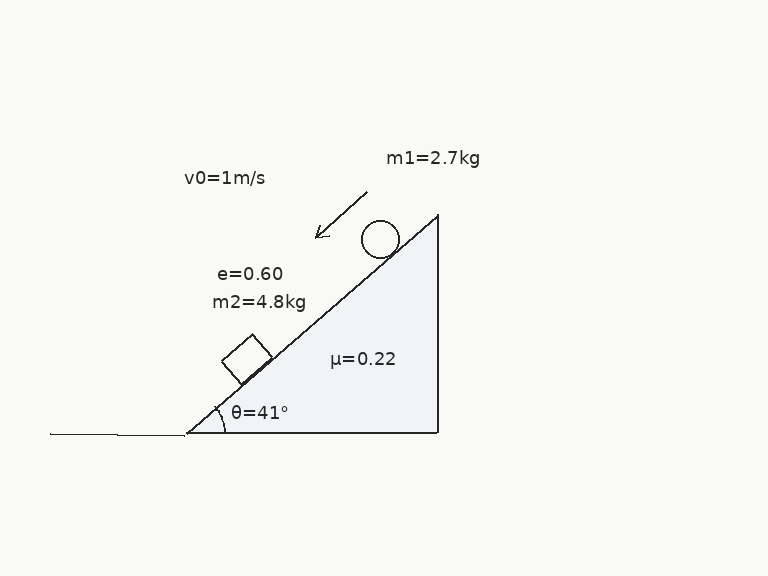ball: (359, 218, 401, 260)
block: (219, 332, 275, 386)
ramp: (183, 213, 438, 435)
